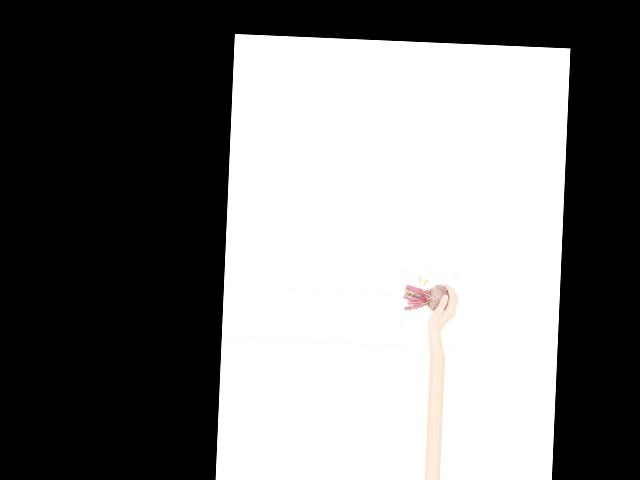beet: (403, 274, 450, 311)
